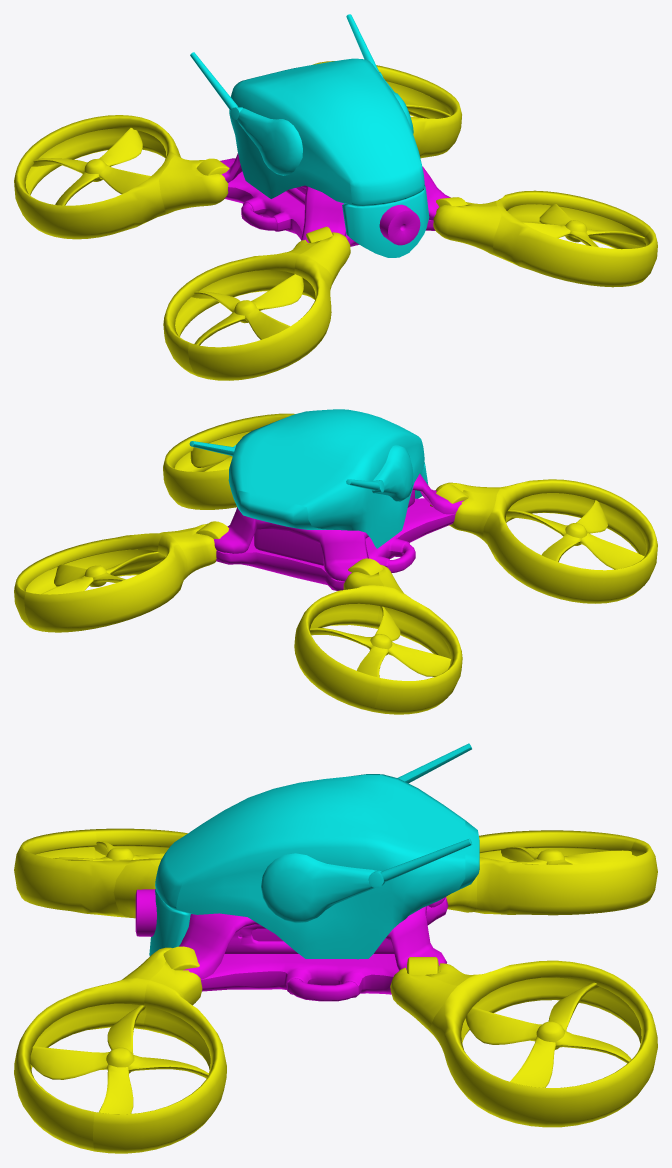
The model's file is Drone_02.fbx.
3 renders of one model, top to bottom at view 1: azimuth 30°, elevation 25°; view 2: azimuth 150°, elevation 25°; view 3: azimuth 270°, elevation 25°, orthographic. The views are drawn at different scales.
Parts seen in each view (by area): view 1: Drone2_Shell1, Drone2_Arm4, Drone2_Arm1, Drone2_Arm2, BodyWork02, Drone2_Arm3, Drone2_Propeller4, Drone2_Propeller1, Drone2_Shell2, Drone2_Aereal_Right1, Drone2_Propeller2, Drone2_Aereal_Right3_low; view 2: Drone2_Shell1, Drone2_Arm1, Drone2_Arm4, Drone2_Arm3, BodyWork02, Drone2_Arm2, Drone2_Propeller1, Drone2_Propeller4, Drone2_Propeller3, Drone2_Aereal_Right1, Drone2_Propeller2; view 3: Drone2_Shell1, Drone2_Arm3, Drone2_Arm2, BodyWork02, Drone2_Arm4, Drone2_Arm1, Drone2_Propeller3, Drone2_Propeller2, Drone2_Aereal_Left1, Drone2_Propeller4, Drone2_Shell2, Drone2_Aereal_Left3_low (+3 smaller).
Boxes of the visible parts, bbox=[...] form: Drone2_Shell1: bbox=[229, 58, 424, 206]; Drone2_Arm4: bbox=[14, 115, 228, 239]; Drone2_Arm1: bbox=[163, 232, 350, 380]; Drone2_Arm2: bbox=[433, 190, 657, 287]; BodyWork02: bbox=[220, 153, 450, 246]; Drone2_Arm3: bbox=[312, 61, 461, 158]; Drone2_Propeller4: bbox=[32, 128, 150, 205]; Drone2_Propeller1: bbox=[192, 274, 303, 345]; Drone2_Shell2: bbox=[342, 185, 429, 257]; Drone2_Aereal_Right1: bbox=[237, 108, 302, 175]; Drone2_Propeller2: bbox=[522, 204, 645, 247]; Drone2_Aereal_Right3_low: bbox=[190, 52, 237, 110]; Drone2_Shell1: bbox=[228, 409, 424, 548]; Drone2_Arm1: bbox=[436, 479, 657, 603]; Drone2_Arm4: bbox=[294, 564, 462, 714]; Drone2_Arm3: bbox=[14, 523, 216, 632]; BodyWork02: bbox=[214, 473, 464, 590]; Drone2_Arm2: bbox=[163, 413, 294, 509]; Drone2_Propeller1: bbox=[506, 500, 644, 569]; Drone2_Propeller4: bbox=[310, 606, 450, 677]; Drone2_Propeller3: bbox=[41, 552, 165, 594]; Drone2_Aereal_Right1: bbox=[373, 444, 413, 501]; Drone2_Propeller2: bbox=[190, 447, 232, 471]; Drone2_Shell1: bbox=[155, 774, 479, 959]; Drone2_Arm3: bbox=[390, 960, 657, 1127]; Drone2_Arm2: bbox=[14, 947, 226, 1153]; BodyWork02: bbox=[135, 889, 448, 1001]; Drone2_Arm4: bbox=[446, 830, 657, 915]; Drone2_Arm1: bbox=[14, 828, 187, 918]; Drone2_Propeller3: bbox=[465, 982, 631, 1087]; Drone2_Propeller2: bbox=[30, 1005, 208, 1114]; Drone2_Aereal_Left1: bbox=[261, 853, 376, 923]; Drone2_Propeller4: bbox=[501, 846, 635, 864]; Drone2_Shell2: bbox=[149, 889, 190, 955]; Drone2_Aereal_Left3_low: bbox=[380, 838, 472, 881].
Bounding box in the file's own units: 44.71 × 16.31 × 42.29.
